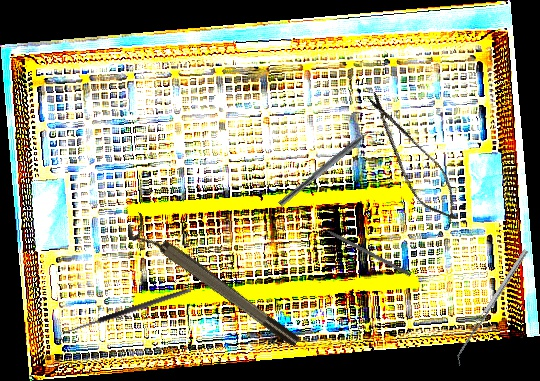Chopper: (278, 122, 382, 214)
Fixation Ring: (122, 212, 303, 357)
Hook Surgical: (58, 286, 194, 344), (310, 220, 412, 277)
Micro Scissor: (353, 84, 471, 232)
Spatula Surgical: (451, 249, 533, 366)
